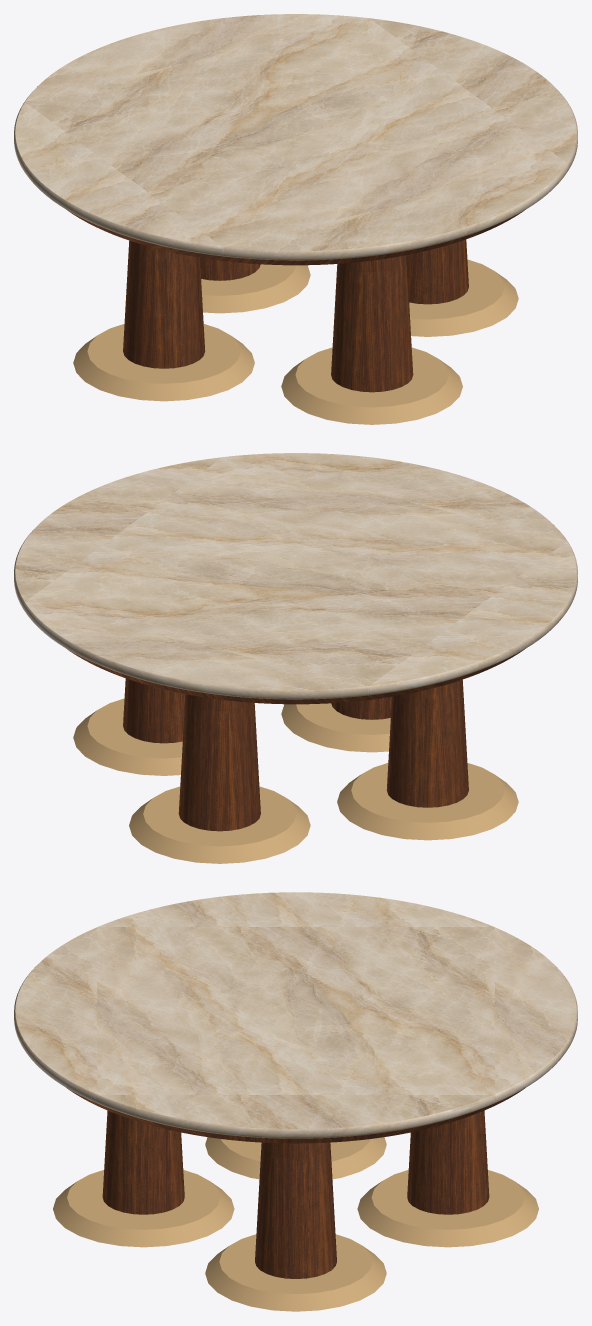
The model's file is SaloonRoundTableFor8.glb.
The picture shows the model from 3 angles, top to bottom: view 1: azimuth 30°, elevation 25°; view 2: azimuth 150°, elevation 25°; view 3: azimuth 270°, elevation 25°; orthographic projection.
Visible parts, largest first — view 1: Champagne edge.010; view 2: Champagne edge.010; view 3: Champagne edge.010.
Part boxes in pixels (left/top/right/bottom): Champagne edge.010: left=14, top=14, right=577, bottom=424; Champagne edge.010: left=14, top=453, right=577, bottom=863; Champagne edge.010: left=14, top=892, right=577, bottom=1311.
Bounding box in the file's own units: 1.99 × 0.77 × 1.99.
3 materials, 2 textured.
